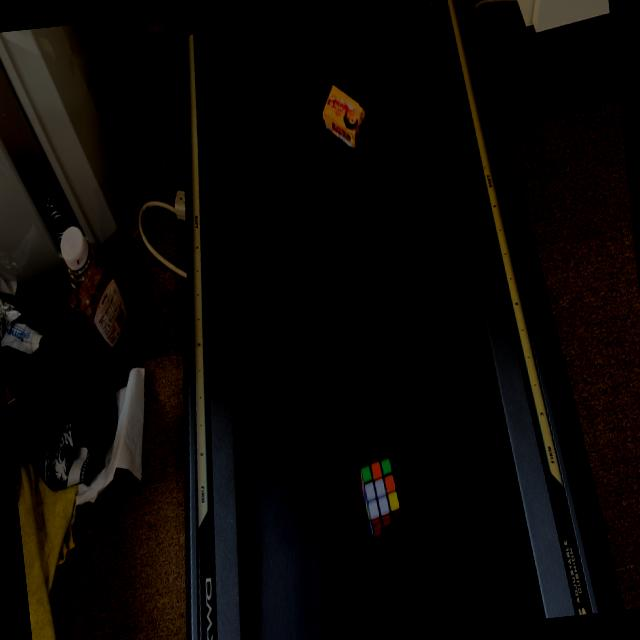Trash: (357, 455, 405, 541), (318, 79, 370, 154)
